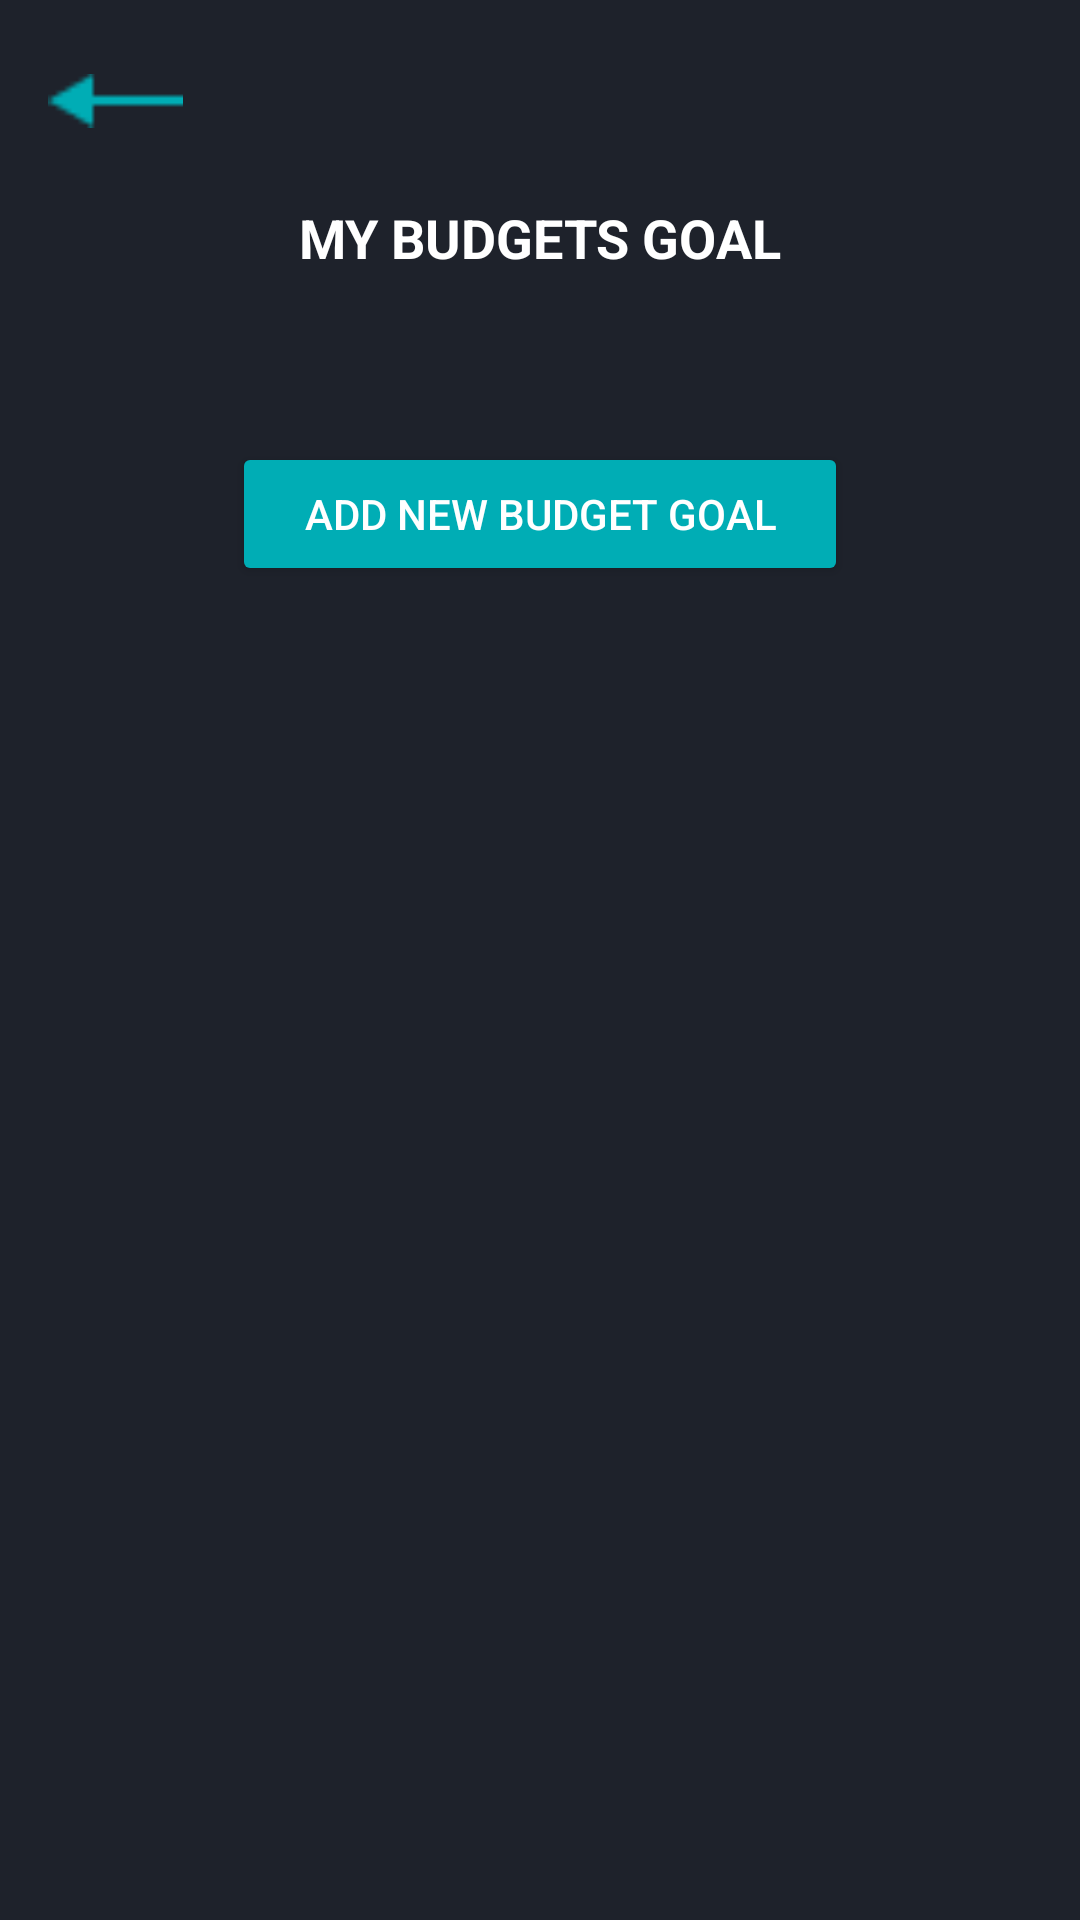

Where icons sit on this 1080px×1920px app screen, as (x1, y1, x2, y2):
Back: (48, 74, 183, 128)
